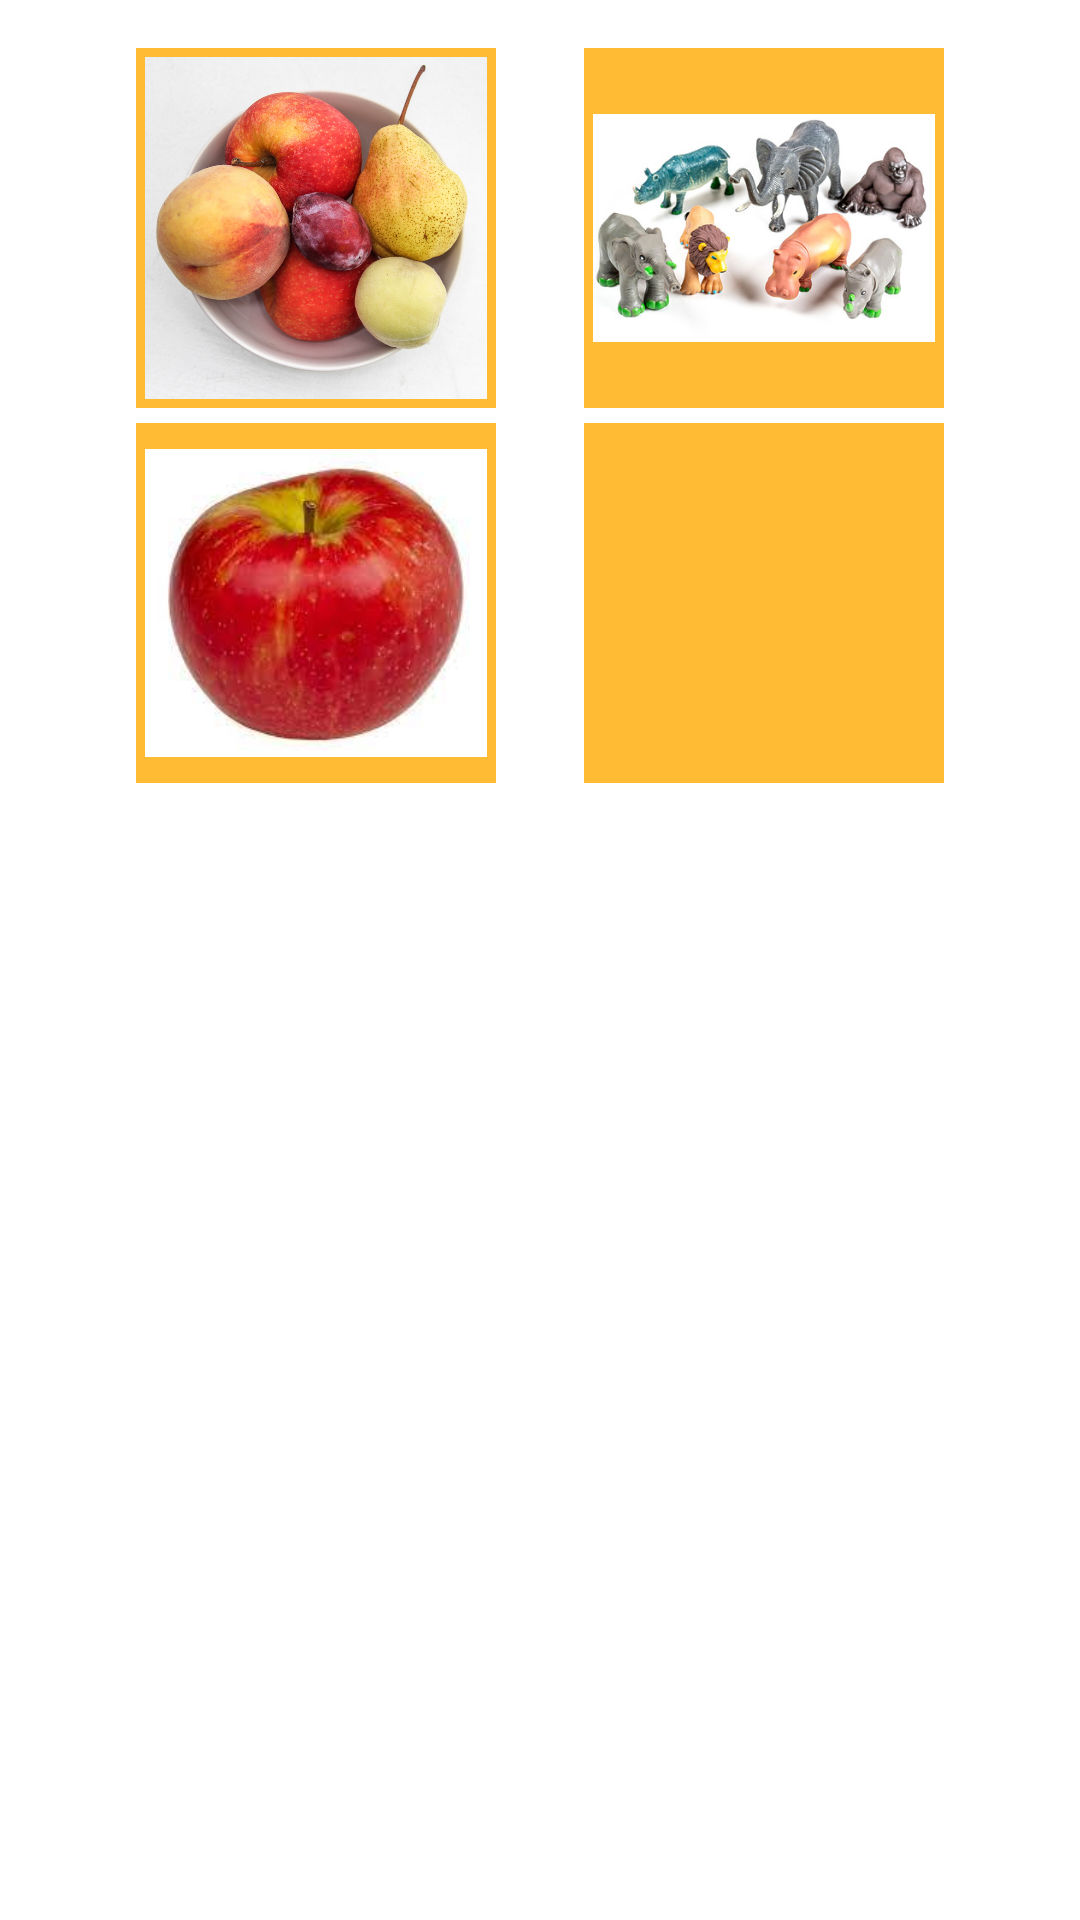

Icons on this 1080*1920 Android screen, each with its box as (x1,y1,x2,y2):
animaux: (584,48,944,408)
fruits: (136,48,496,408)
pomme: (136,423,496,783)
